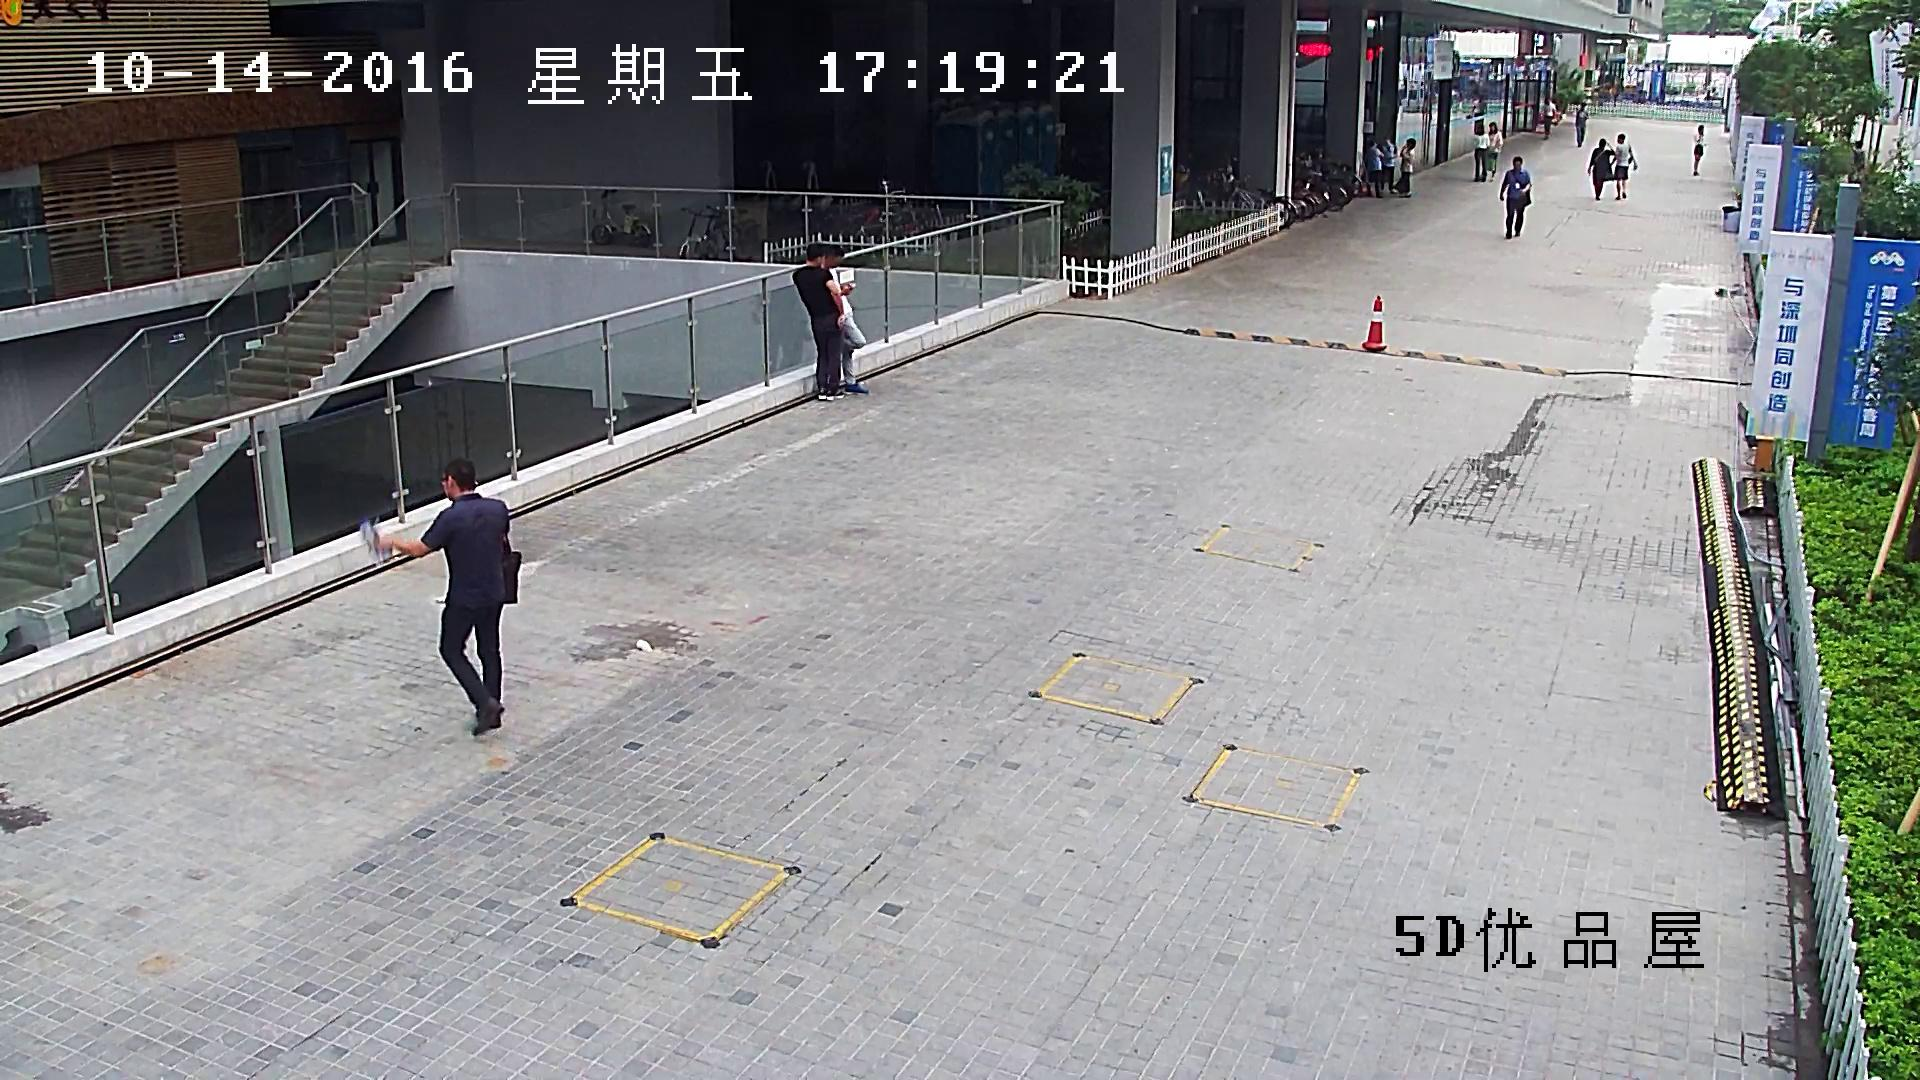person: (360, 458, 522, 737), (792, 244, 849, 401), (827, 243, 870, 394), (1500, 156, 1531, 240), (1610, 134, 1637, 200), (1587, 138, 1614, 200), (1366, 139, 1384, 197), (1472, 125, 1490, 182), (1488, 121, 1503, 178), (1381, 137, 1397, 193), (1400, 138, 1414, 195), (1466, 95, 1486, 126), (1692, 125, 1704, 175), (1541, 97, 1556, 139), (1853, 140, 1867, 179), (1576, 102, 1587, 147), (1450, 85, 1461, 118)
